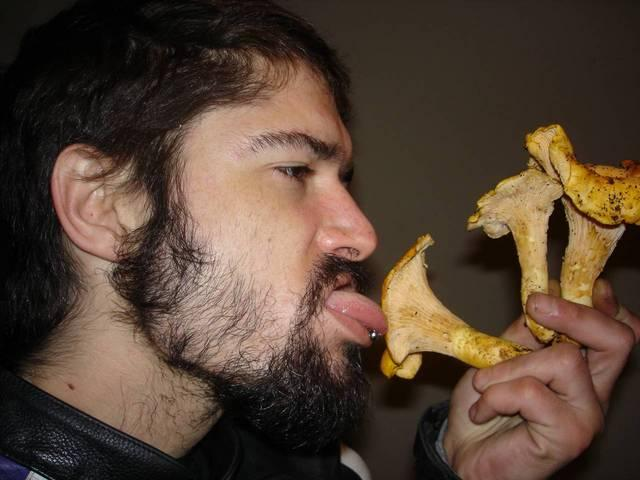edible_mushroom: (378, 121, 638, 381)
